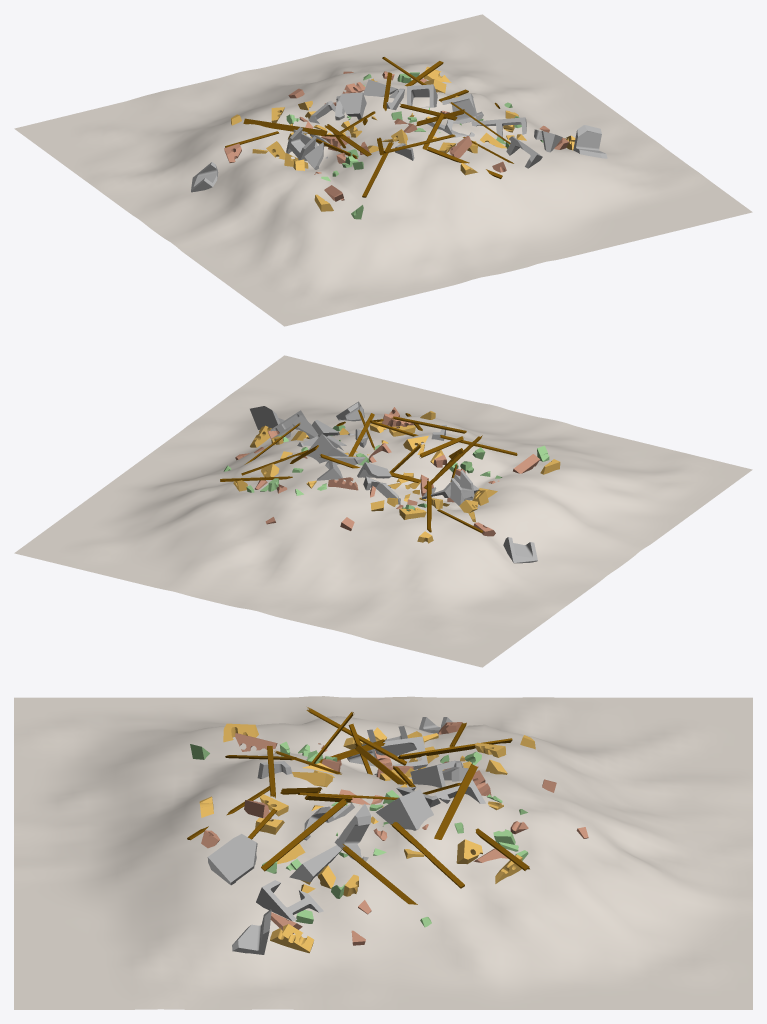
Rendered from Debries_001.fbx.
The picture shows the model from 3 angles, top to bottom: view 1: azimuth 30°, elevation 25°; view 2: azimuth 150°, elevation 25°; view 3: azimuth 270°, elevation 25°; orthographic projection. The views are drawn at different scales.
Parts seen in each view (by area): view 1: Debries_001; view 2: Debries_001; view 3: Debries_001.
Part boxes in pixels (bbox=[...]): Debries_001: bbox=[14, 14, 752, 326]; Debries_001: bbox=[14, 355, 752, 667]; Debries_001: bbox=[14, 696, 752, 1009].
Bounding box in the file's own units: 22.72 × 3.82 × 22.72.
